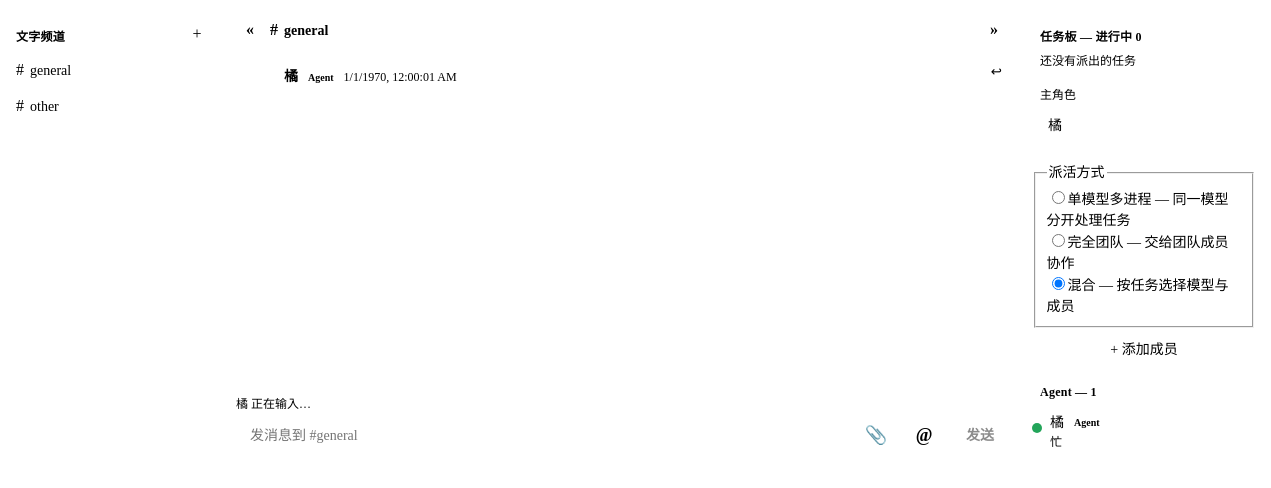
Test: channels page › closes the capability list on an outside press and preserves the slash draft
Type "/" into the dropdown at point(542, 435), box 236,415 -> 848,456
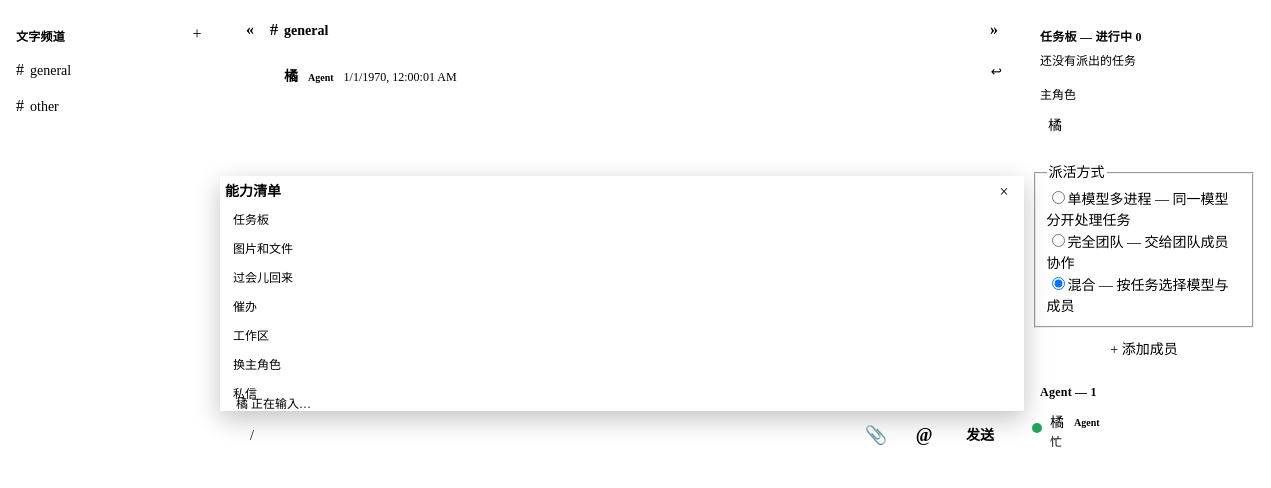
expect the element "能力清单" is shown: met, box 220,176 -> 1024,411
Press the mouse on the element that starts with "general" at point(622, 240), box 220,8 -> 1024,472
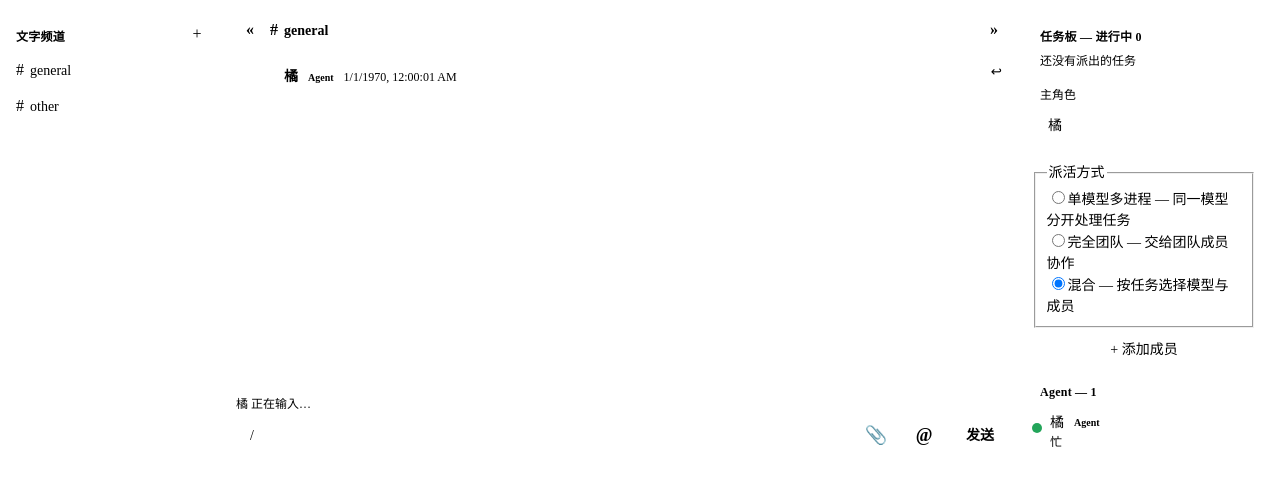
expect the text "能力清单" is gone: met
